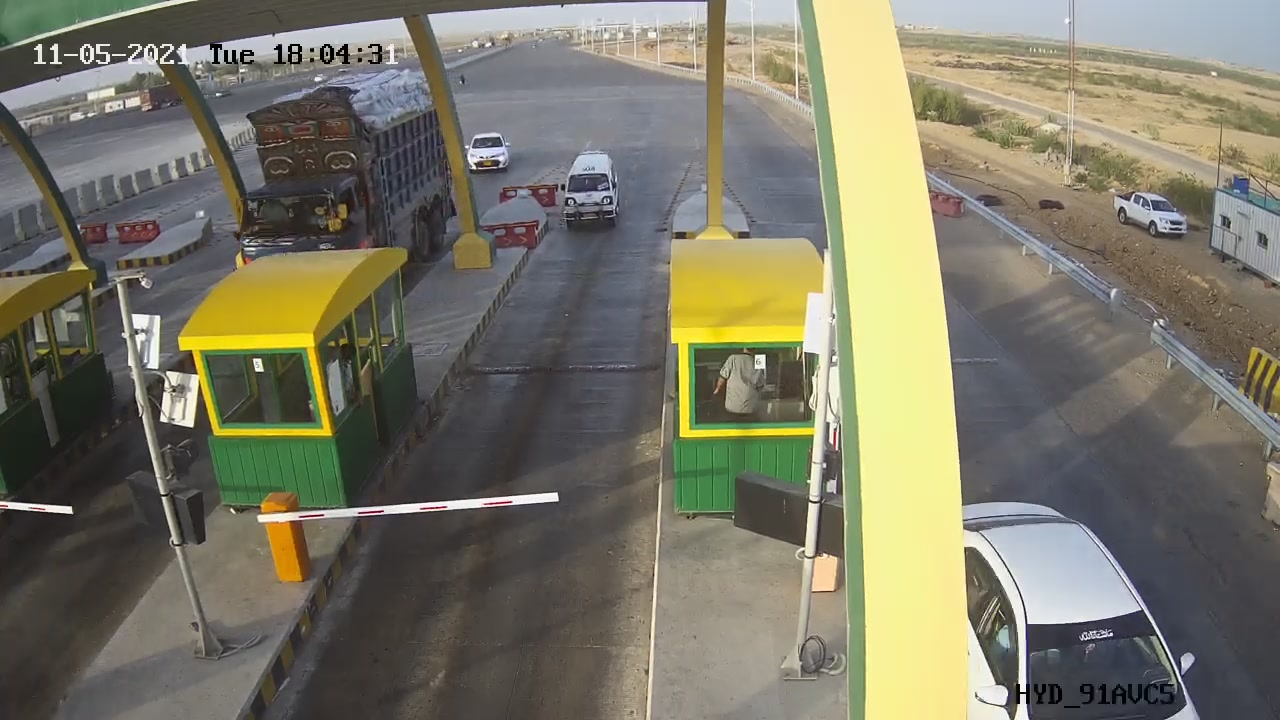F1: (543, 140, 643, 242)
